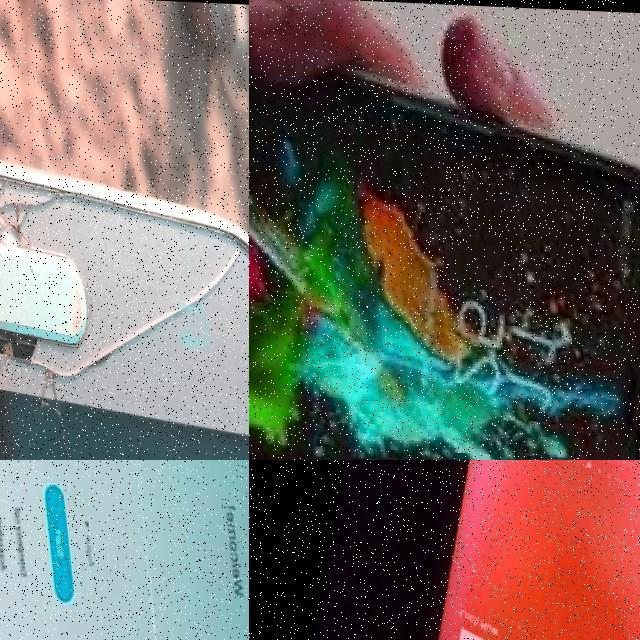screen crack: (0, 119, 249, 460)
